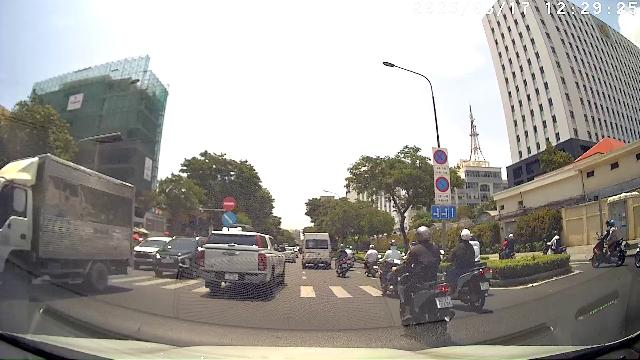130-cam-dung-va-do-xe: (433, 149, 447, 165)
131a-cam-do-xe: (435, 176, 449, 192)
